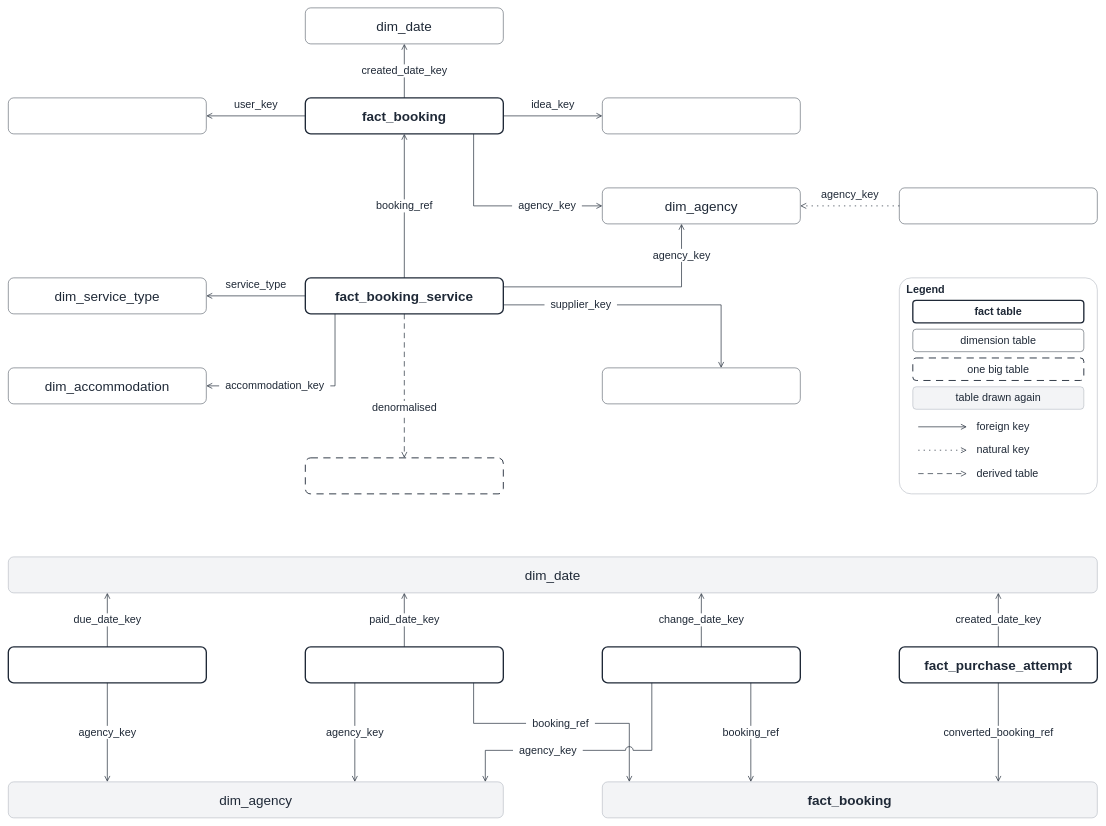
Image size: 1106x826. Some labels were removed from this diagram. Here are the shapes that lost their labels. From the top down, the centre of each, then its label:
the point at 107,115: dim_user
the point at 701,115: dim_travel_idea
the point at 998,205: dim_agency_history
the point at 701,385: dim_supplier
the point at 404,475: obt_booking_service
the point at 107,664: fact_pending_payment
the point at 404,664: fact_booking_payment
the point at 701,664: fact_booking_status_change
